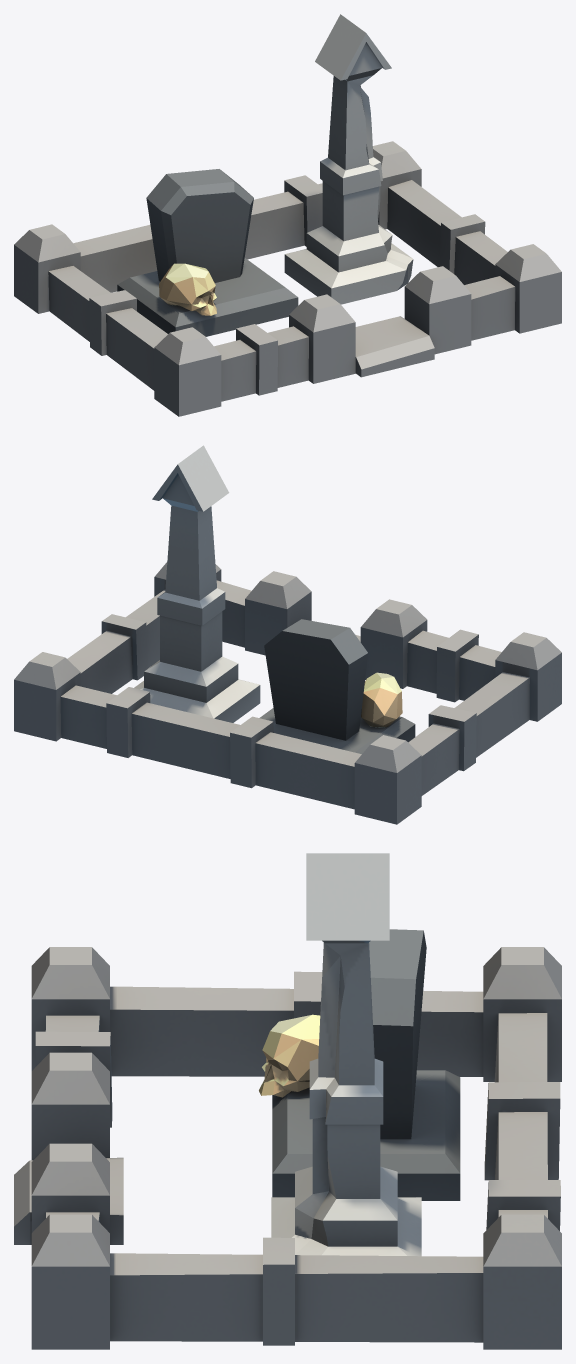
The model's file is PUSHILIN_cemetry.obj.
3 renders of one model, top to bottom at view 1: azimuth 30°, elevation 25°; view 2: azimuth 150°, elevation 25°; view 3: azimuth 270°, elevation 25°, orthographic. The views are drawn at different scales.
Visible parts, largest first — view 1: cemetery; view 2: cemetery; view 3: cemetery.
Boxes of the visible parts, x1,y1,x2,y2 form: cemetery: (14, 14, 561, 416); cemetery: (14, 445, 561, 824); cemetery: (14, 853, 561, 1349).
Bounding box in the file's own units: 1.97 × 1.25 × 1.52.
1 material, 1 textured.
